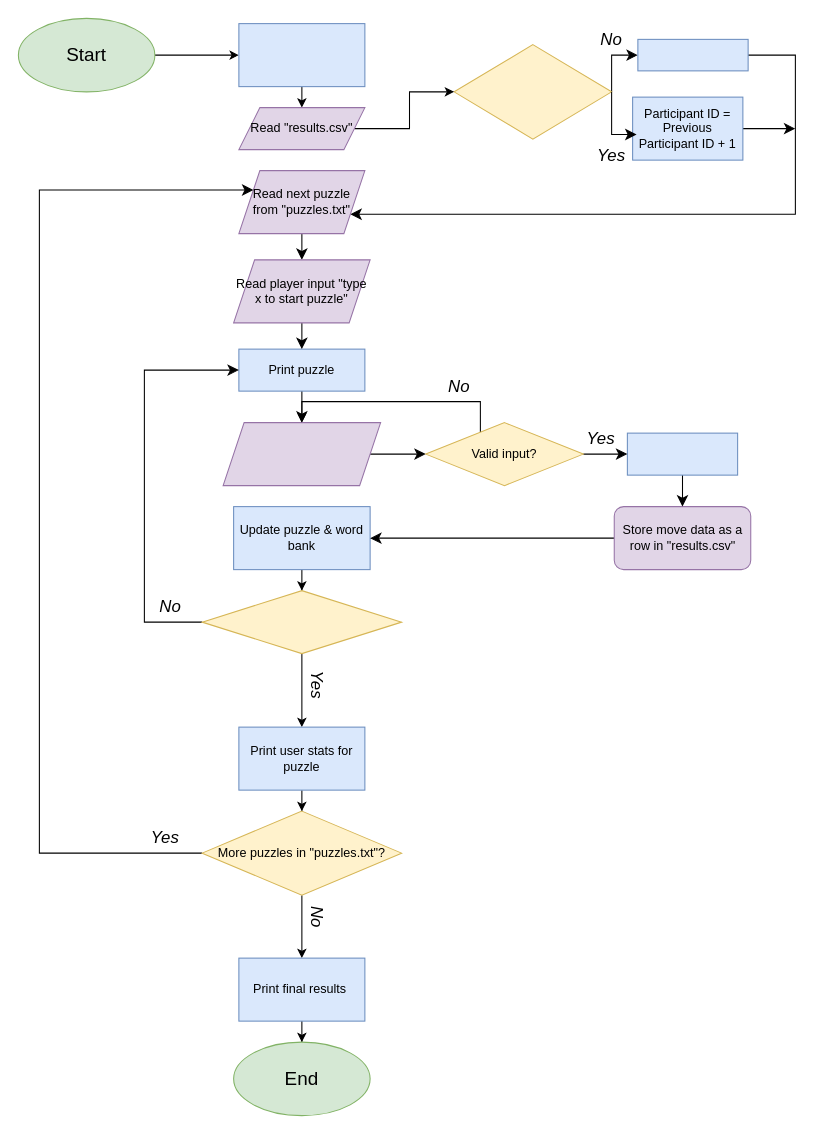
The diagram is 824 pixels wide and 1134 high, and some of its shapes have lost their labels. The shapes that lost their labels are listed below. From the top down, each one's centre as x and y in pixels, then its label:
(x=301, y=55): Print welcome message
(x=692, y=54): Participant ID = 1
(x=532, y=91): Does CSV contain previous participant data?
(x=301, y=454): Read player's input "add/remove <word>"
(x=682, y=453): Classify as "add" or "subtract"
(x=301, y=622): All word categories equal?
